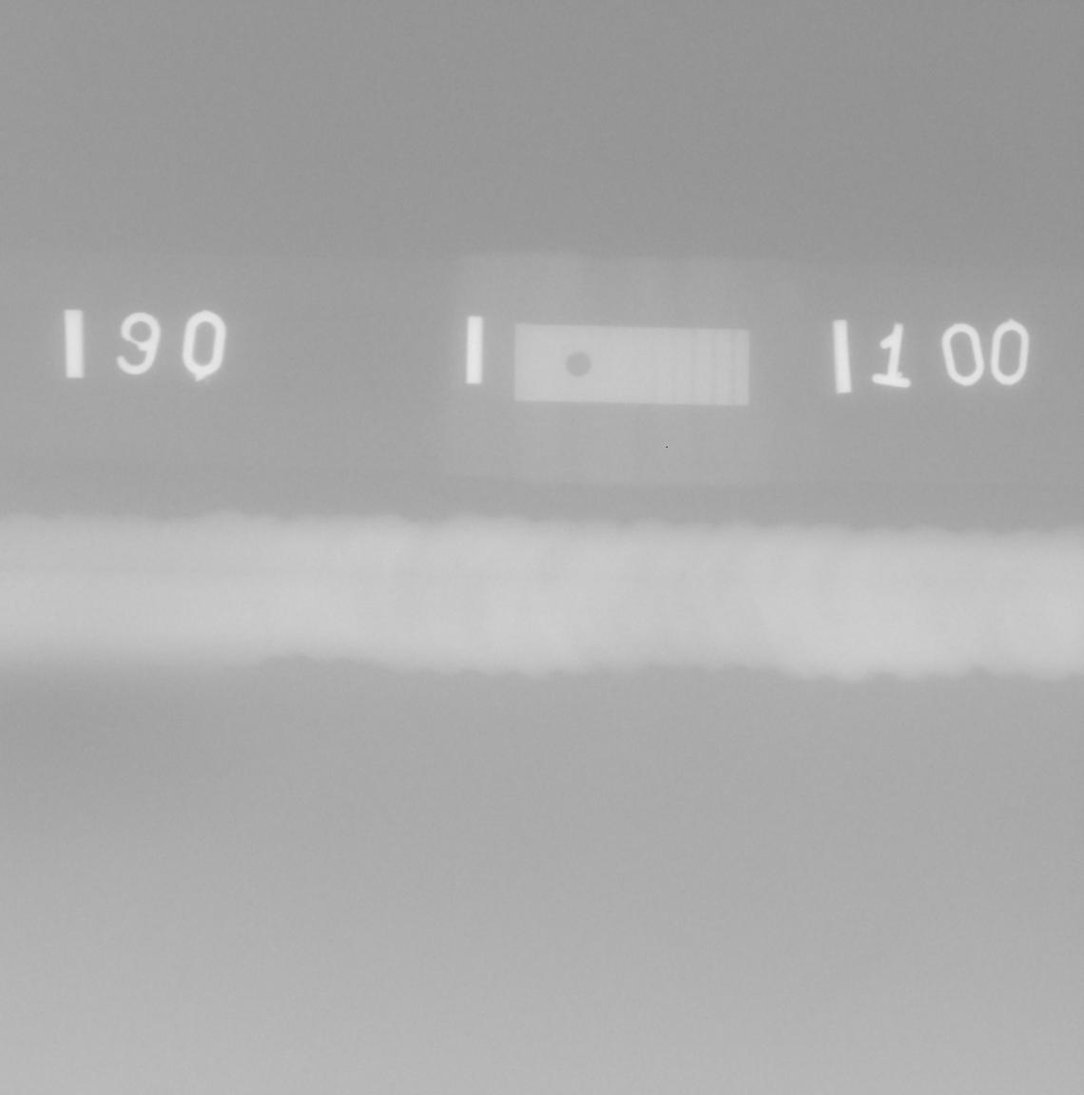Reference Standard 1: (515, 324, 750, 406)
